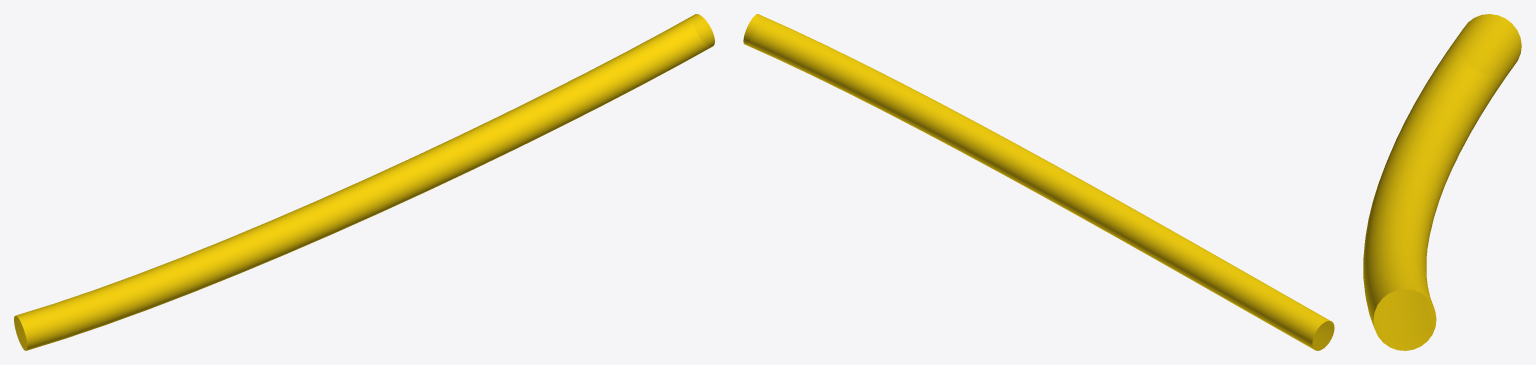
Rendered from Event_421364160_track_64.fbx.
The picture shows the model from 3 angles, left to right: view 1: azimuth 30°, elevation 25°; view 2: azimuth 150°, elevation 25°; view 3: azimuth 270°, elevation 25°; orthographic projection. The views are drawn at different scales.
Visible parts, largest first — view 1: Model; view 2: Model; view 3: Model.
Boxes of the visible parts, left/top/right/bottom form: Model: left=14, top=14, right=714, bottom=350; Model: left=743, top=14, right=1334, bottom=350; Model: left=1363, top=14, right=1521, bottom=350.
Size of the model in its own units: 0.8331 by 0.231 by 0.1002.
